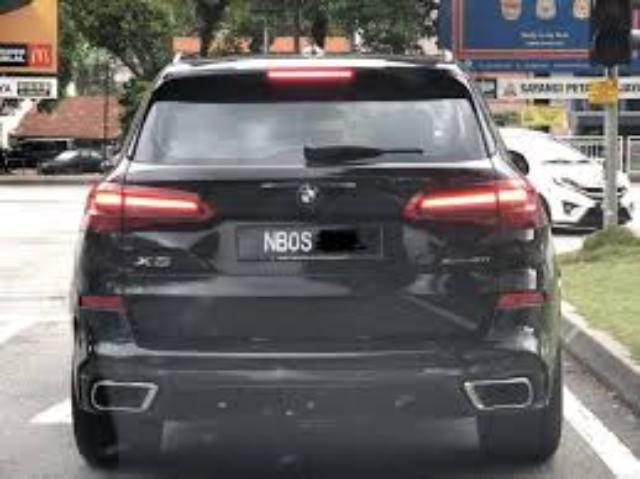License_Plate: (232, 227, 390, 274)
car: (73, 54, 567, 470)
